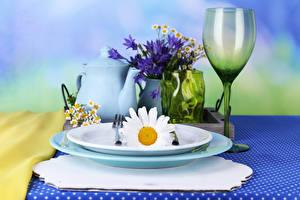chamomile: (128, 112, 172, 147)
